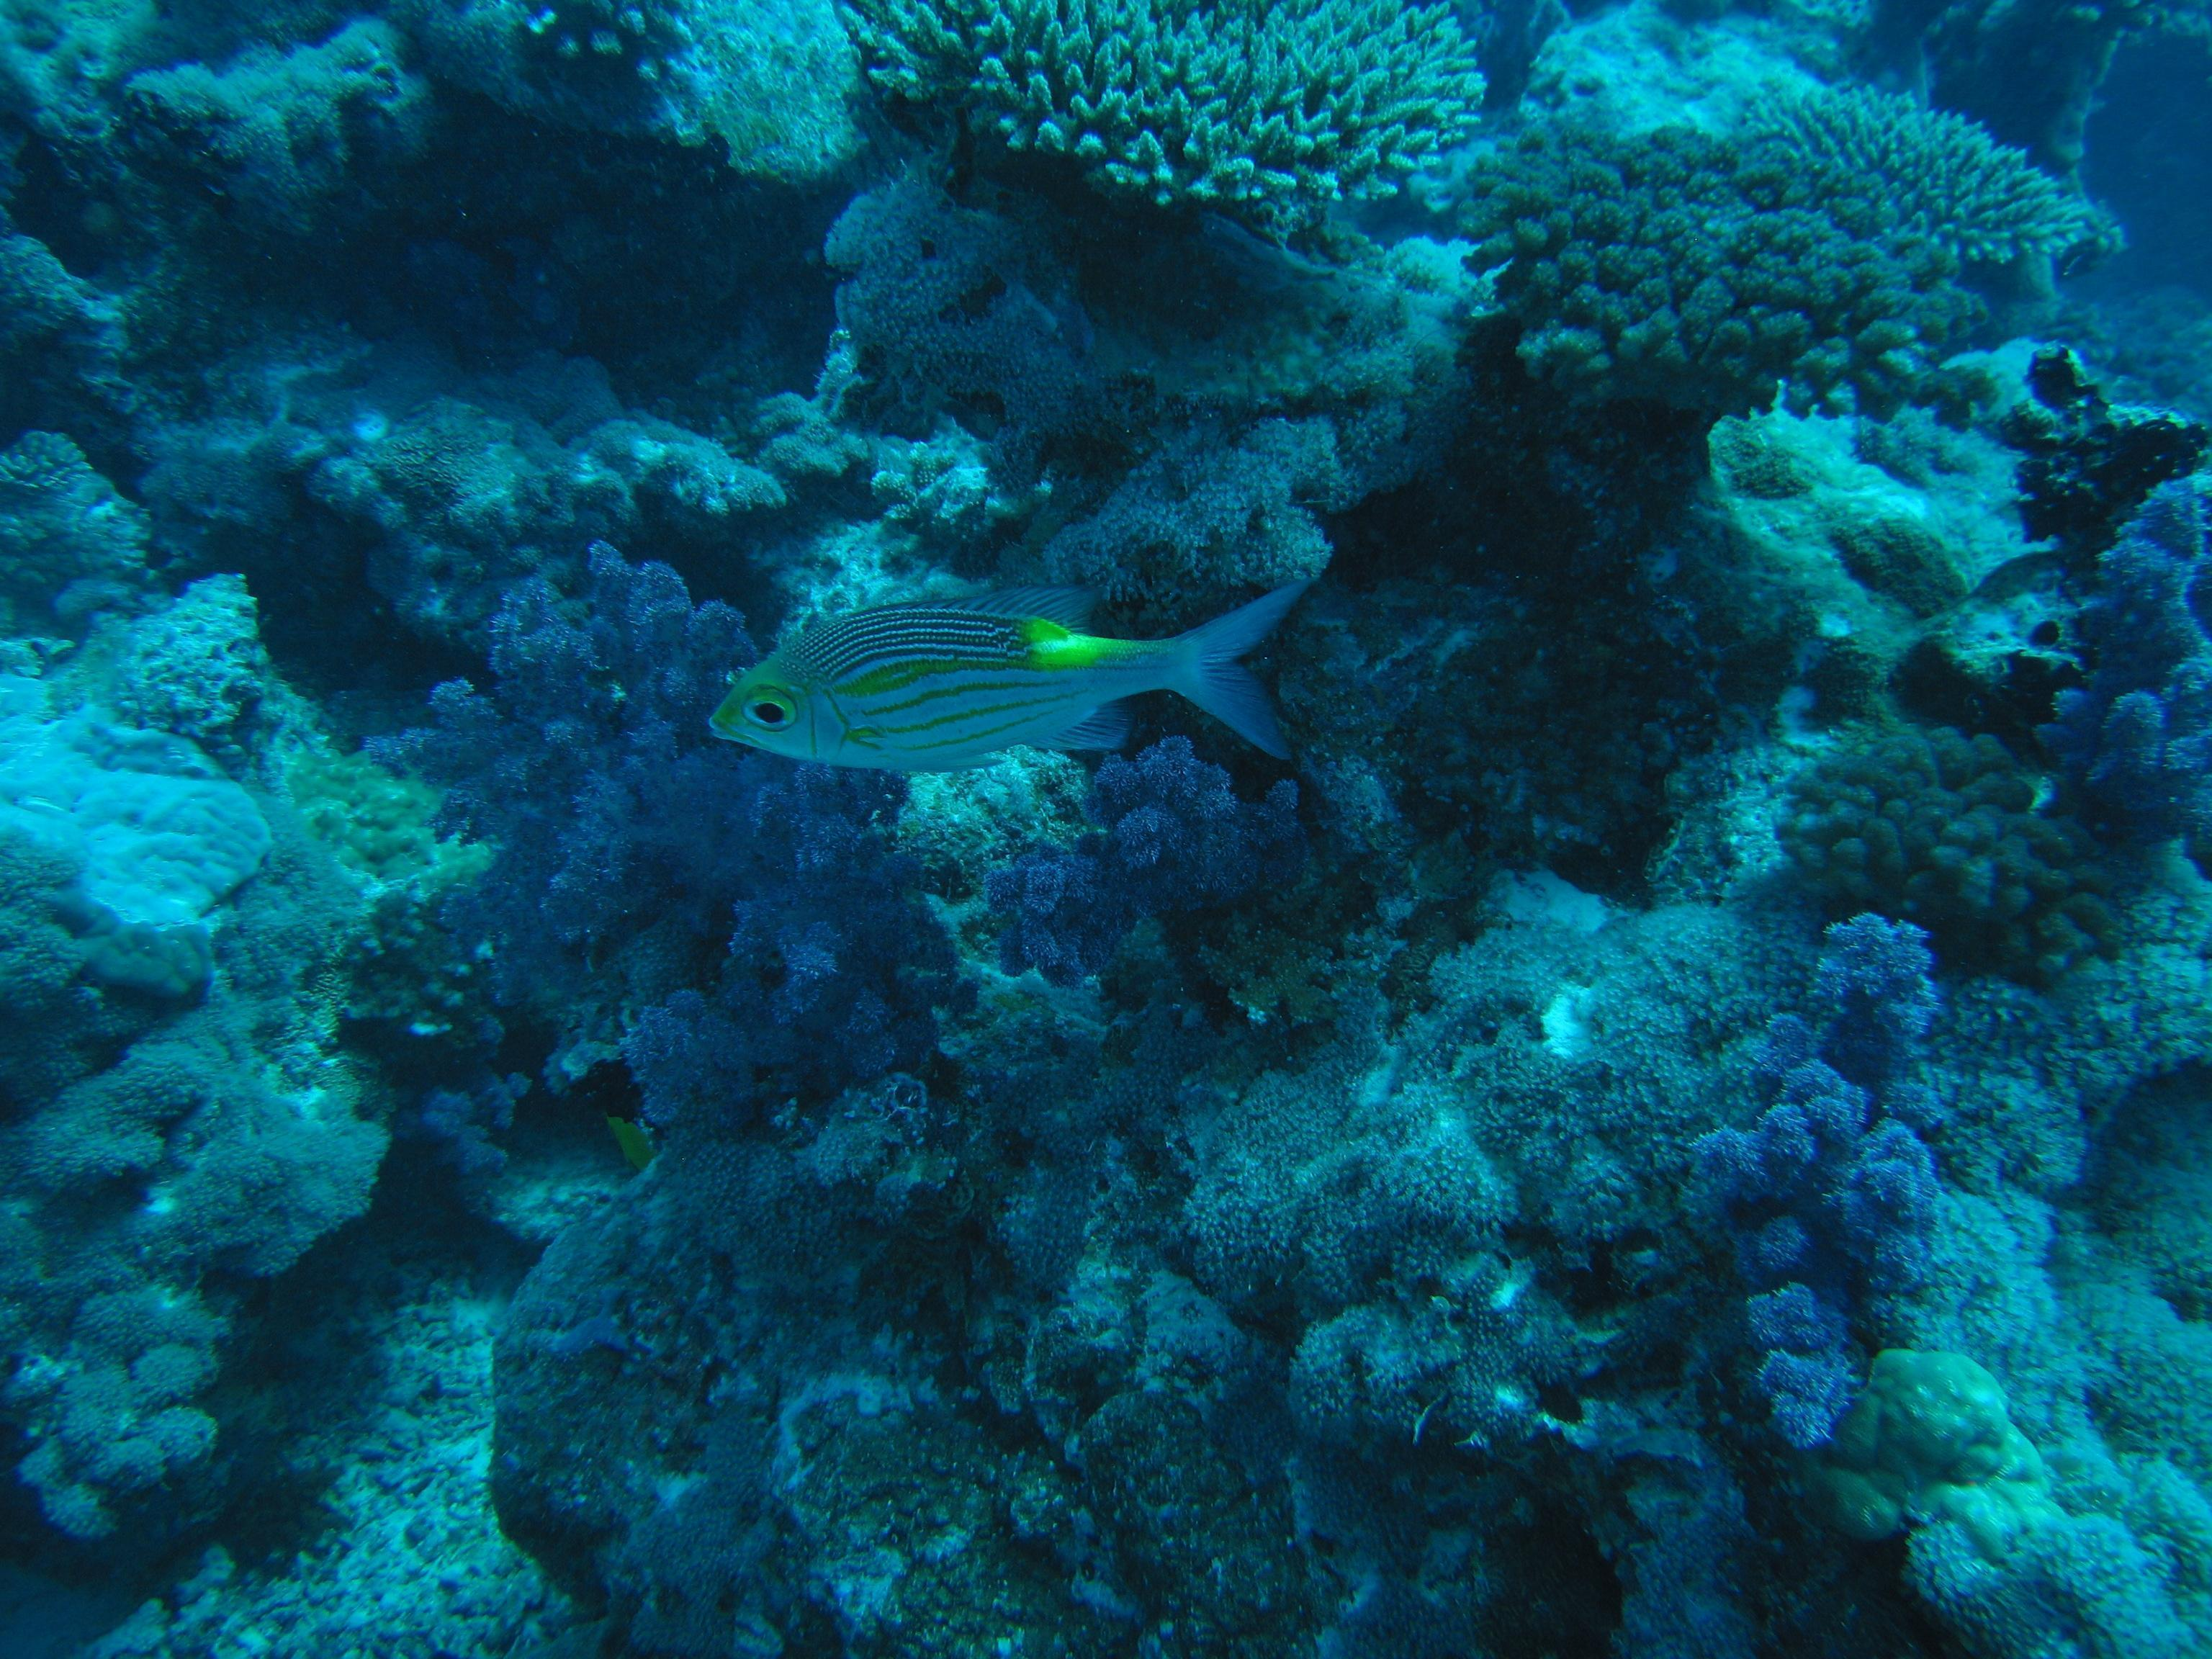Gnathodentex aureolineatus: (714, 559, 1341, 791)
